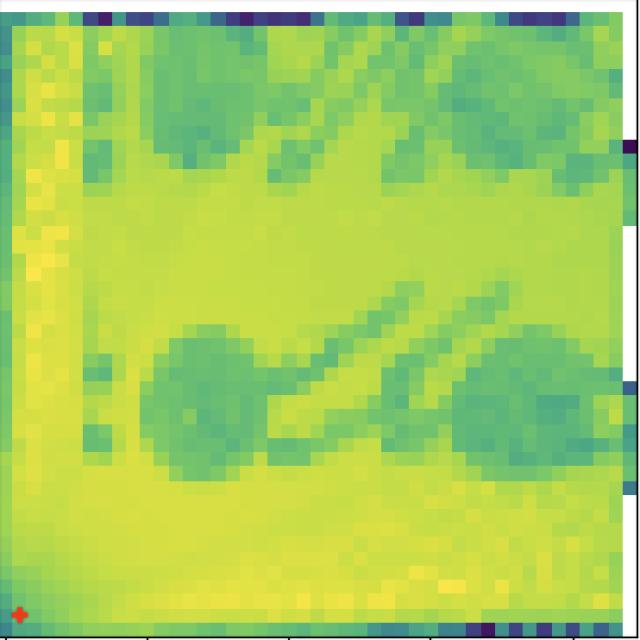Concrete: (442, 35, 574, 176)
Glass: (138, 37, 262, 180)
Metal: (461, 330, 592, 484)
Wood: (129, 321, 269, 478)
